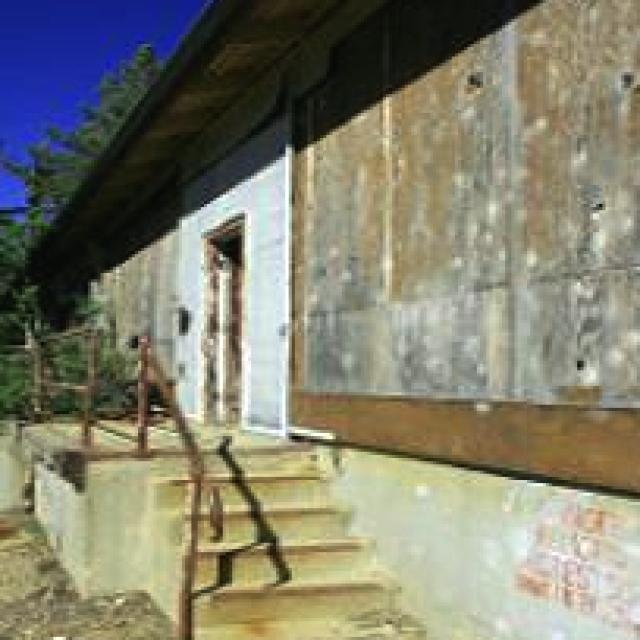upstair: (158, 412, 399, 613)
